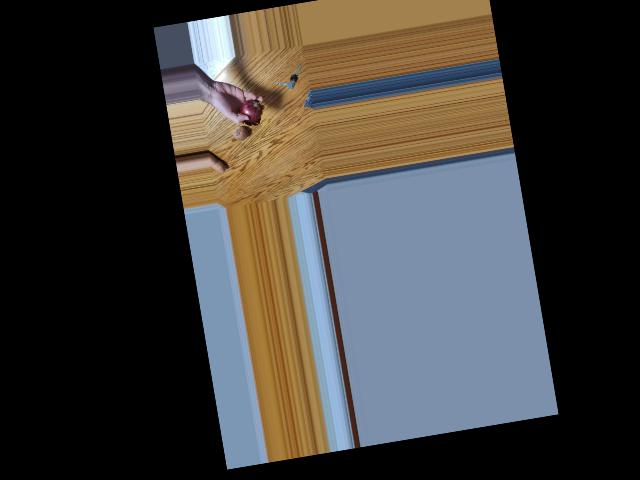onion: (230, 118, 249, 143)
